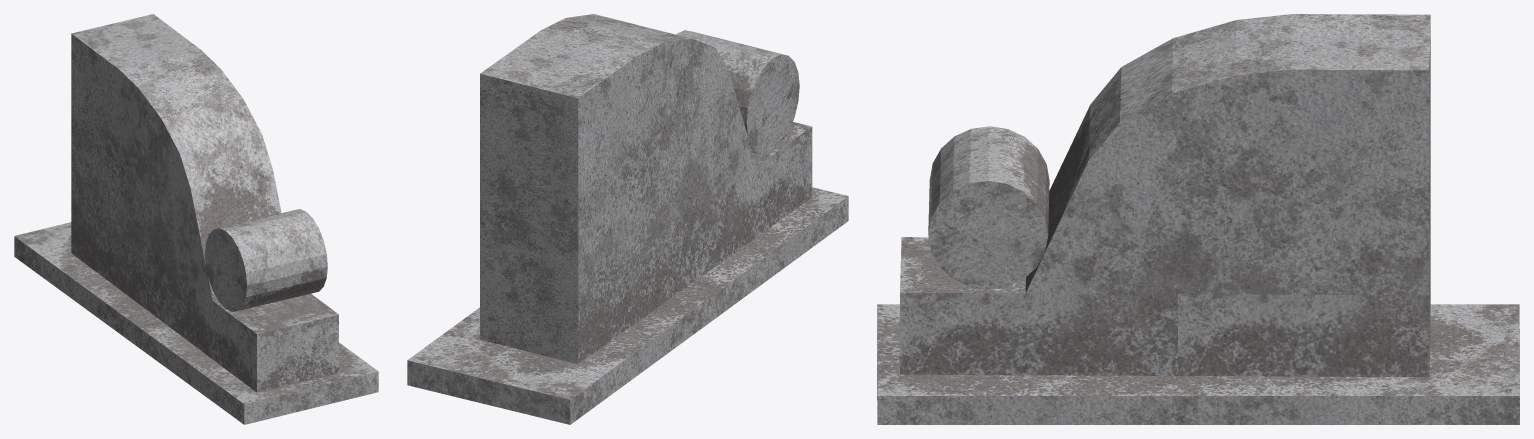
Rendered from SM_RoyalStair_1.fbx.
3 renders of one model, left to right at view 1: azimuth 30°, elevation 25°; view 2: azimuth 150°, elevation 25°; view 3: azimuth 270°, elevation 25°, orthographic. The views are drawn at different scales.
Parts seen in each view (by area): view 1: SM_RoyalStair_1; view 2: SM_RoyalStair_1; view 3: SM_RoyalStair_1.
Part boxes in pixels (x1=…): SM_RoyalStair_1: x1=14, y1=14, x2=378, y2=424; SM_RoyalStair_1: x1=407, y1=14, x2=848, y2=424; SM_RoyalStair_1: x1=877, y1=14, x2=1519, y2=424.
Size of the model in its own units: 72.94 by 216 by 124.
Materials: 1 (1 with a texture image).
